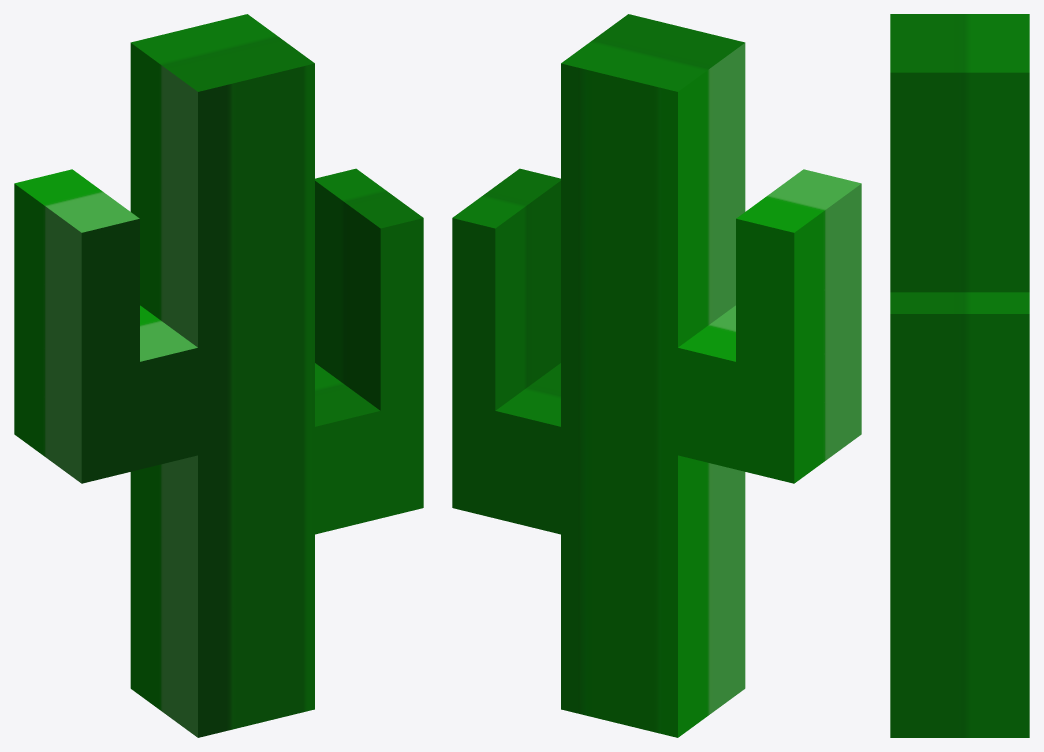
Rendered from Cactus .fbx.
3 views of the same model, side by side, from view 1: azimuth 30°, elevation 25°; view 2: azimuth 150°, elevation 25°; view 3: azimuth 270°, elevation 25° (orthographic). The views are drawn at different scales.
Visible parts, largest first — view 1: Cactus; view 2: Cactus; view 3: Cactus.
Part boxes in pixels (bbox=[...]): Cactus: bbox=[14, 14, 423, 737]; Cactus: bbox=[452, 14, 861, 737]; Cactus: bbox=[890, 14, 1029, 737].
Bounding box in the file's own units: 5.85 × 10.55 × 2.
